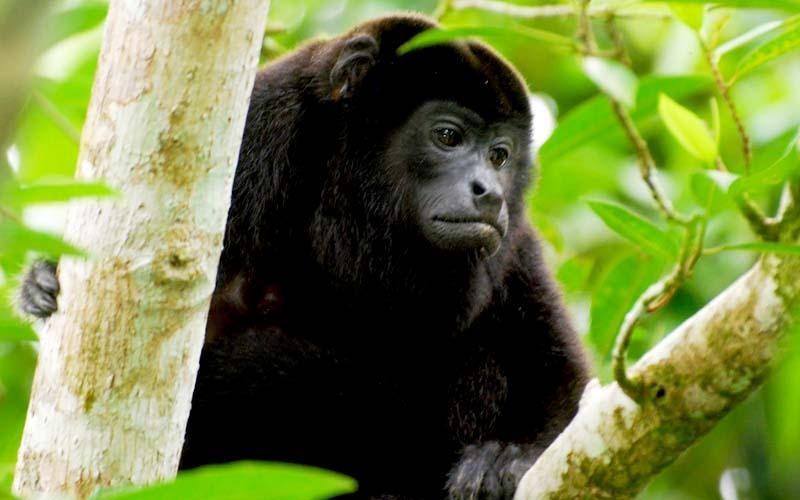monkey: (181, 15, 595, 500)
